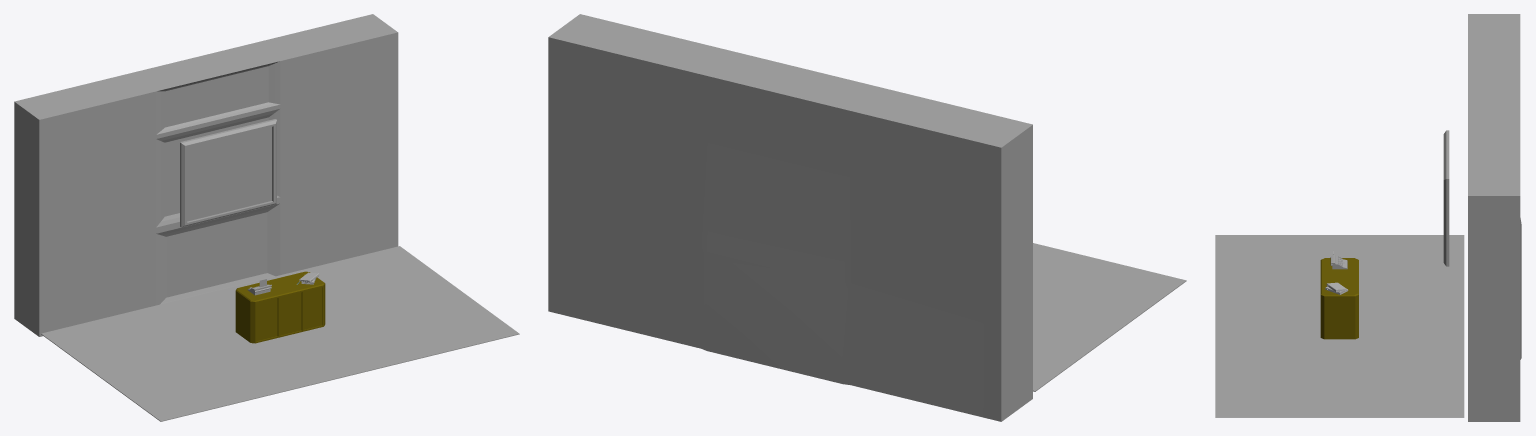
File: SceneBureau.fbx
3 renders of one model, left to right at view 1: azimuth 30°, elevation 25°; view 2: azimuth 150°, elevation 25°; view 3: azimuth 270°, elevation 25°, orthographic. The views are drawn at different scales.
Parts seen in each view (by area): view 1: pCube10, pCube7, pCube9, pCube1; view 2: pCube10, pCube7; view 3: pCube7, pCube10, pCube1, pCube9.
Boxes of the visible parts, x1=… form: pCube10: x1=14, y1=14, x2=398, y2=336; pCube7: x1=41, y1=246, x2=519, y2=421; pCube9: x1=180, y1=119, x2=276, y2=227; pCube1: x1=235, y1=271, x2=325, y2=343; pCube10: x1=548, y1=14, x2=1032, y2=421; pCube7: x1=1033, y1=243, x2=1186, y2=391; pCube7: x1=1215, y1=235, x2=1464, y2=417; pCube10: x1=1468, y1=14, x2=1521, y2=421; pCube1: x1=1320, y1=258, x2=1358, y2=339; pCube9: x1=1443, y1=130, x2=1449, y2=266.
Size of the model in its own units: 48.22 by 27.89 by 34.3.
